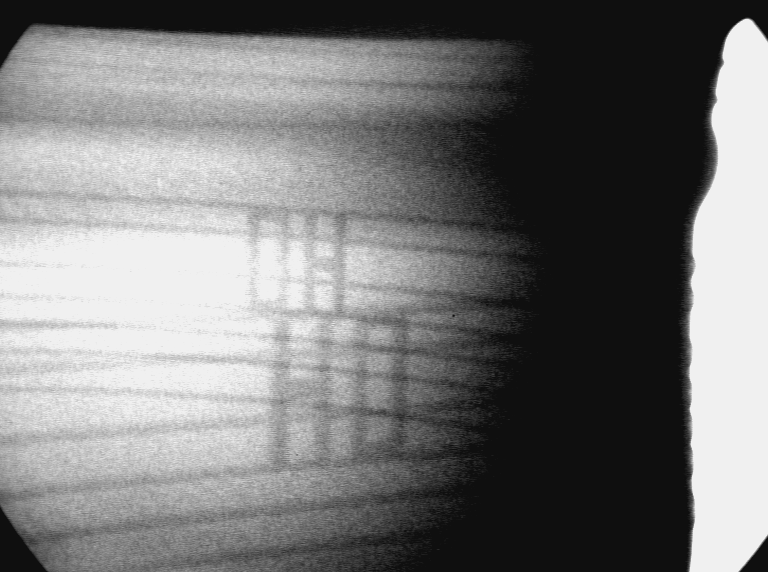defect: (263, 309, 414, 474)
